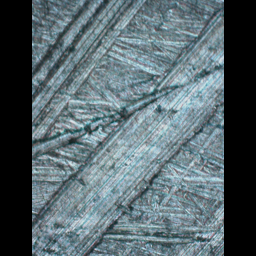d: (33, 1, 223, 256)
